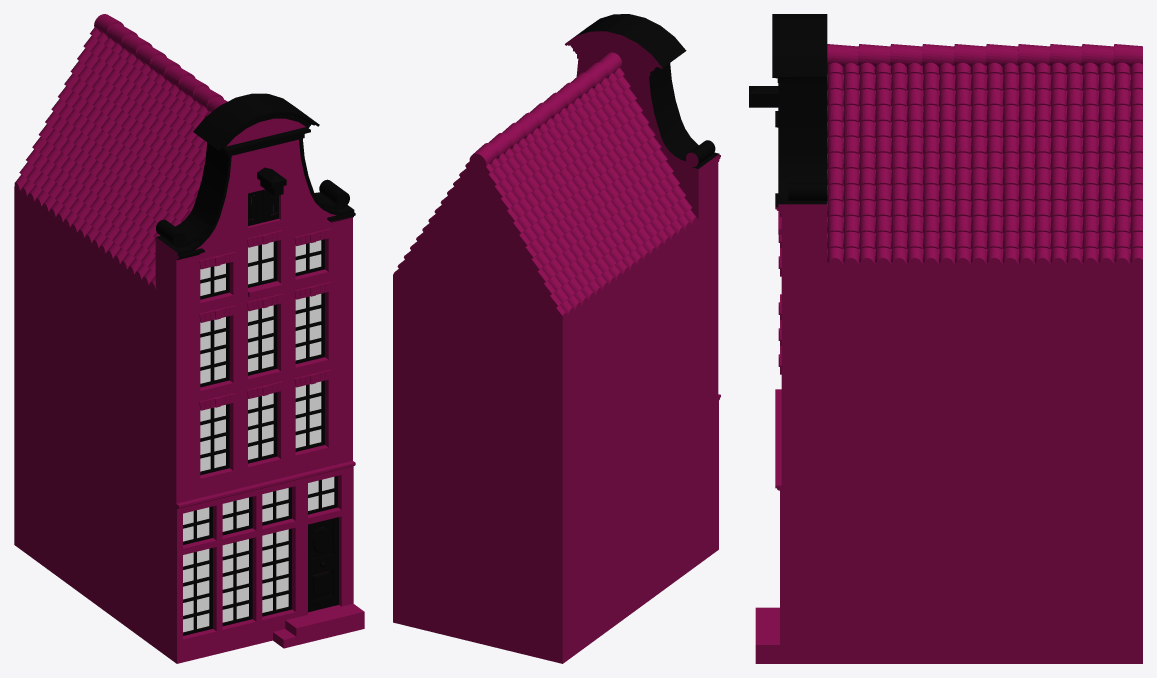
The model's file is amsterdam5.gltf.
3 renders of one model, left to right at view 1: azimuth 30°, elevation 25°; view 2: azimuth 150°, elevation 25°; view 3: azimuth 270°, elevation 25°, orthographic. The views are drawn at different scales.
Visible parts, largest first — view 1: House, Bell_Gable, Roof, Windows, Frames, Entrance, Head, Door, Stairs, Wood; view 2: House, Roof, Bell_Gable, Head; view 3: House, Roof, Bell_Gable, Head, Stairs.
Part boxes in pixels (x1,y1,x2,y2): House: (14,186,155,647); Bell_Gable: (155,118,355,663); Roof: (14,14,227,289); Windows: (183,240,334,632); Frames: (183,239,337,635); Entrance: (177,466,353,663); Head: (156,93,355,259); Door: (308,517,338,612); Stairs: (273,603,364,648); Wood: (248,189,279,225); House: (393,184,698,663); Roof: (393,52,697,319); Bell_Gable: (565,31,720,563); Head: (568,14,720,168); House: (827,262,1142,663); Roof: (827,44,1142,263); Bell_Gable: (755,204,827,663); Head: (749,14,827,207); Stairs: (755,607,779,644).
Bounding box in the file's own units: 5 × 14.37 × 8.64.
